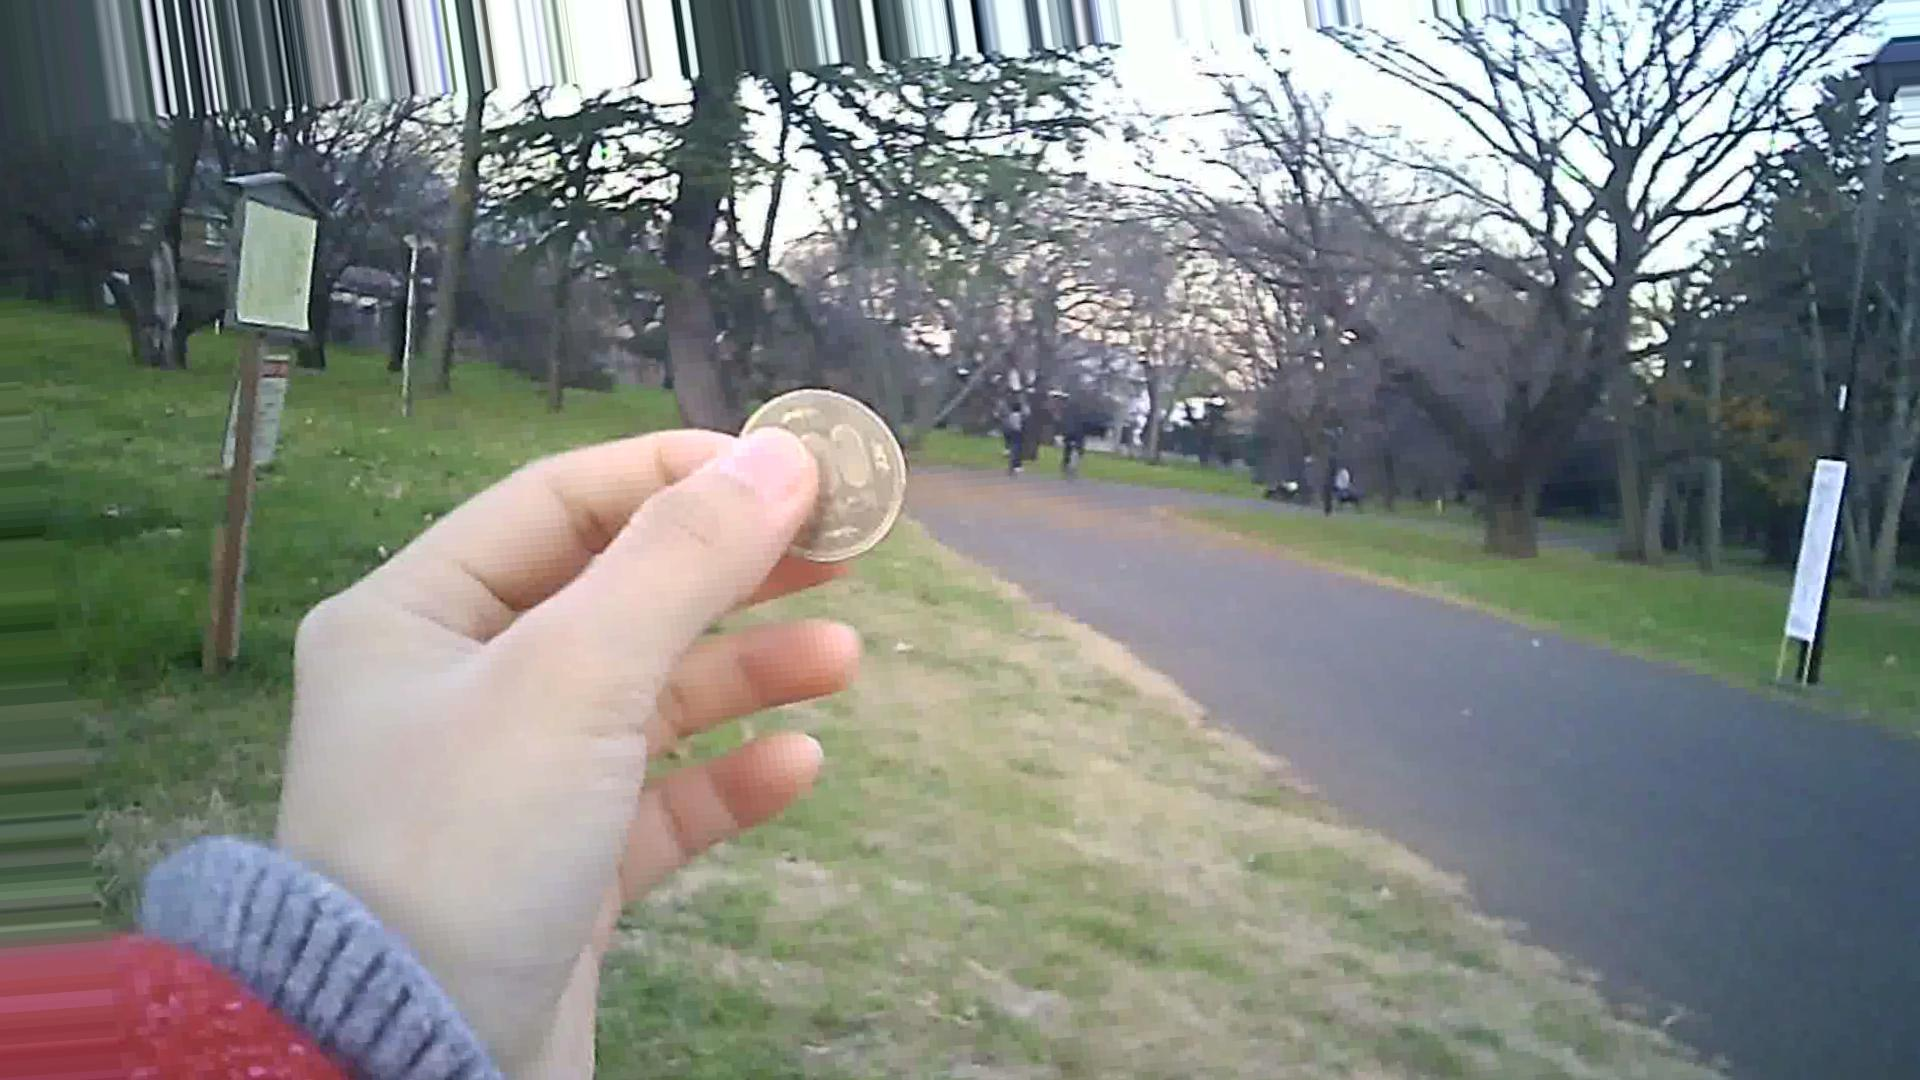500 Yen: (720, 372, 911, 576)
